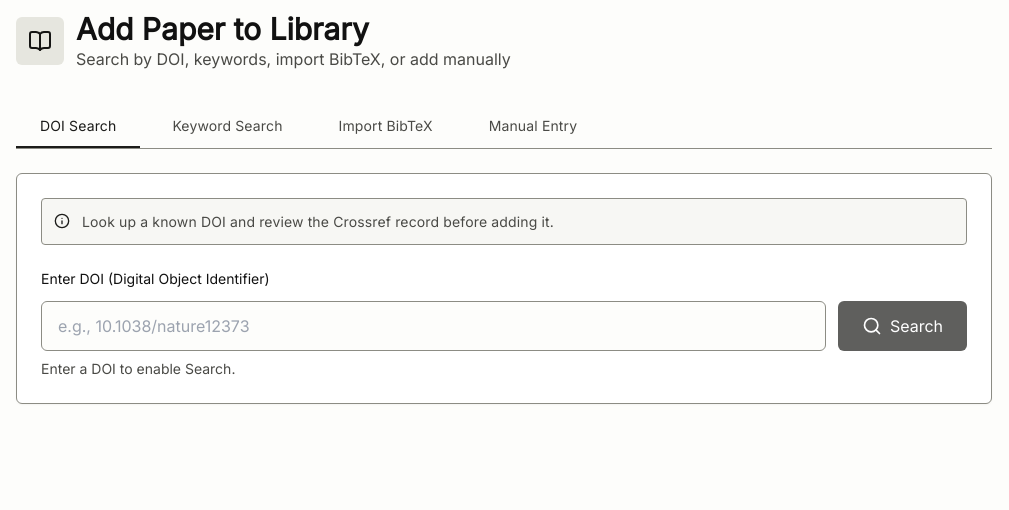
AddPaperView Component › Tab Navigation › should clear errors when switching tabs
// Trigger an error in DOI tab
Type "10.1234/notfound" into the field with placeholder "e.g., 10.1038/nature12373" at (433, 326), box [41,301,826,351]
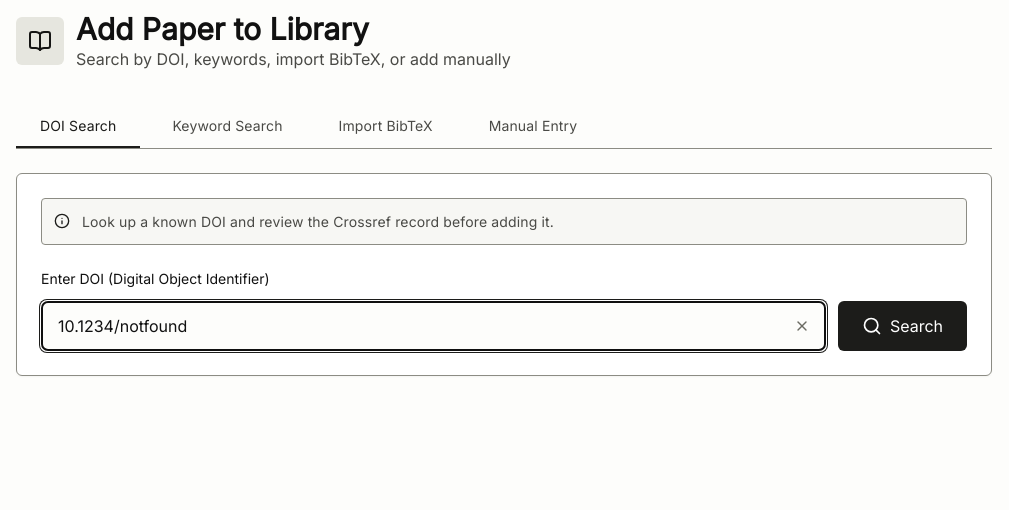
Click the button "Search" at (902, 326), box [838,301,967,351]
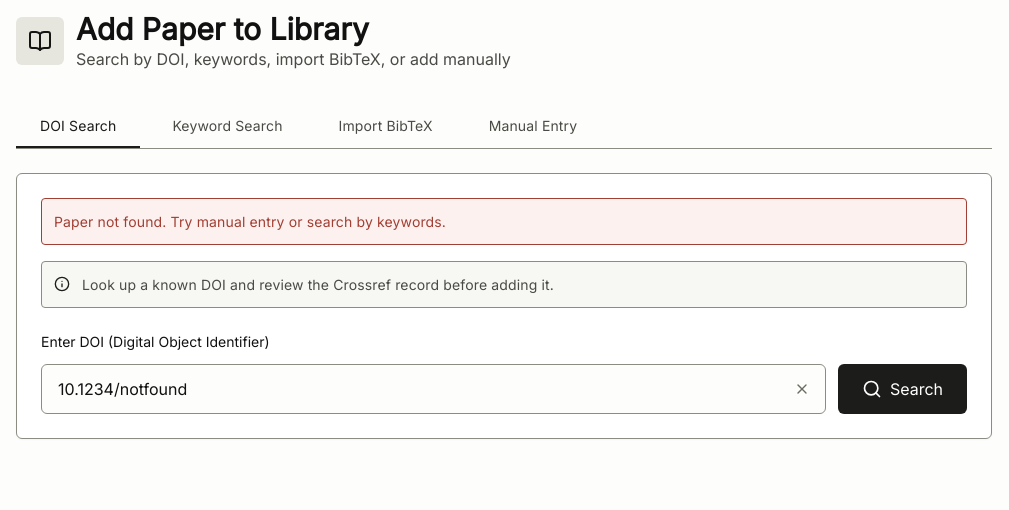
Now the text "Paper not found. Try manual entry or search by keywords." is shown, box [41,198,967,245]
// Switch tabs - error should clear
Click the tab "Keyword Search" at (228, 126), box [148,103,307,148]
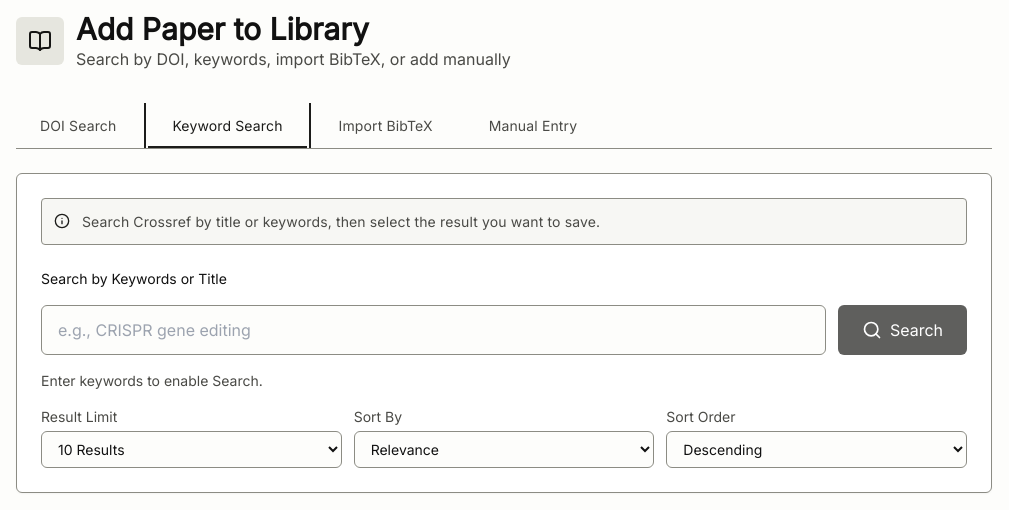
Now the text "Paper not found" is gone
